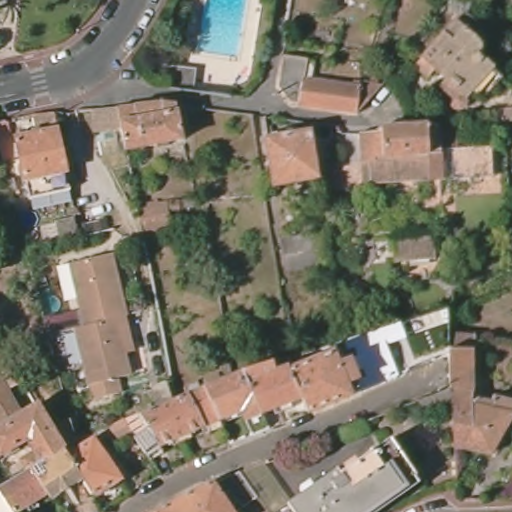pool: (197, 1, 251, 57), (43, 292, 64, 319)
